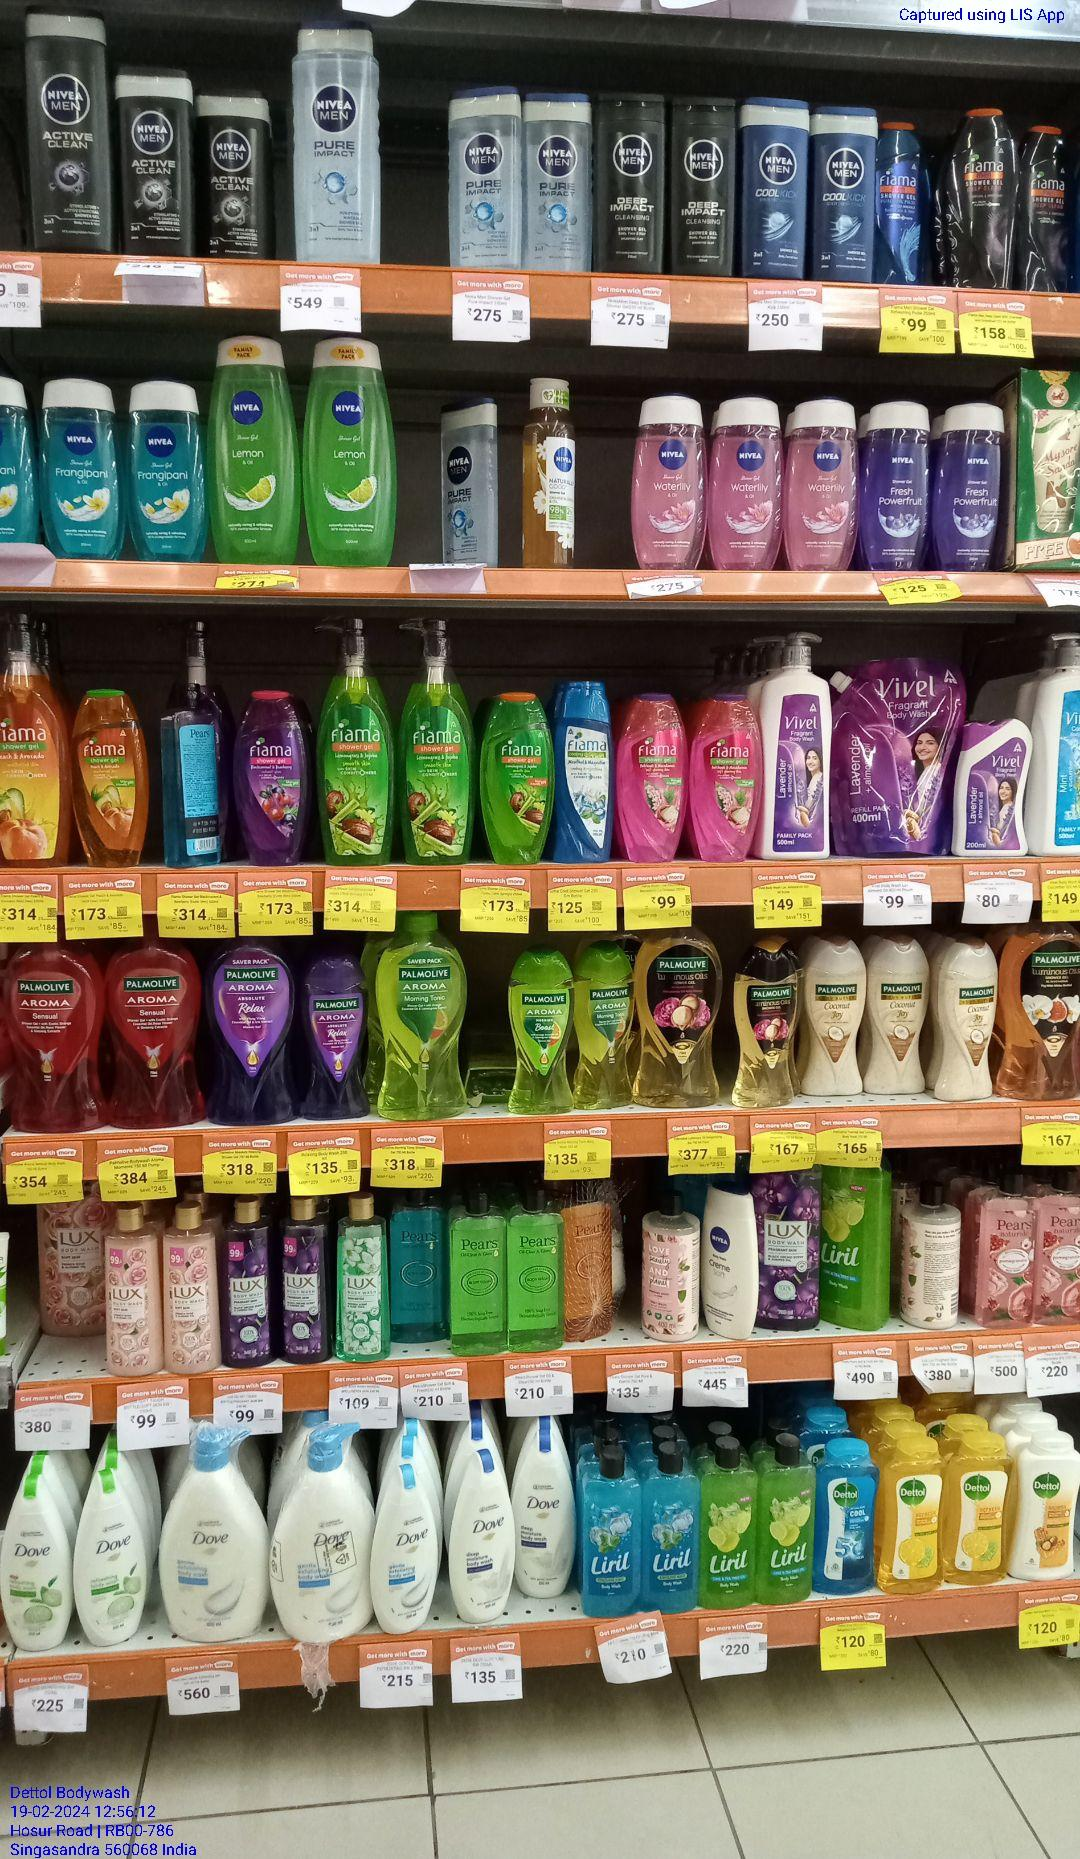Dettol_Bodywash_Cool: (823, 1437, 876, 1594)
Dettol_Bodywash_Refresh: (886, 1435, 942, 1593), (953, 1441, 1008, 1585)
Dove_Deep_Moisture_Body_Wash_250ML: (453, 1451, 512, 1622), (517, 1439, 568, 1599)
Dove_Gentle_Exfoliating_Body_Wash_250ML: (373, 1464, 436, 1630)
Dove_Refreshing_Body_Wash_250ML: (0, 1475, 71, 1649), (77, 1476, 144, 1646)
Fiama_Shower_Gel_Lemongrass_and_Jojoba_250ML: (487, 683, 554, 856)
Fiama_Shower_Gel_Patchouli_and_Macadamia_250ML: (620, 692, 690, 858), (689, 696, 759, 863)
Fiama_Shower_Gel_Peach_and_Avocado_250ML: (69, 687, 141, 863)
Liril_Cooling_Mint_Body_Wash_250ML: (581, 1451, 638, 1613), (644, 1444, 694, 1611)
Liril_Lime_and_Tea_Tree_Oil_Body_Wash_250ML: (697, 1436, 757, 1608), (760, 1436, 818, 1603)
Lux_Black_Orchid_Scent_and_Juniper_Oil_Body_Wash_245ML: (278, 1192, 330, 1360), (224, 1190, 271, 1364)
Lux_Body_Wash_Skin_Detox_Freesia_Scent_and_Alove_Vera_245ML: (333, 1193, 384, 1363)
Nivea_Shower_Gel_Frangipani_and_Oil_250ML: (46, 377, 127, 557), (125, 382, 206, 557)
Nivea_Shower_Gel_Fresh_Powerfruit_250ML: (933, 397, 1002, 571), (864, 399, 928, 571)
Nivea_Shower_Gel_Waterlily_and_Oil_250ML: (710, 402, 780, 573), (636, 400, 707, 563), (791, 397, 852, 566)
Palmolive_Aroma_Morning_Tonic_Shower_Gel_250ML: (509, 950, 570, 1111), (573, 946, 631, 1111)
Palmolive_Aroma_Relax_250ML: (294, 958, 368, 1116)
Palmolive_Coconut_Joy_Exfoliating_Body_Wash_250ML: (935, 936, 995, 1097), (867, 938, 928, 1090), (810, 940, 864, 1094)
Palmolive_Luminous_Oils_Invigorating_Macadamia_Oil_With_Peony_250ML: (738, 936, 798, 1097)
Pears_Pure_Glycerin_and_Lemon_Flower_Extracts_Body_Wash_250ML: (447, 1199, 507, 1355), (508, 1192, 562, 1346)
